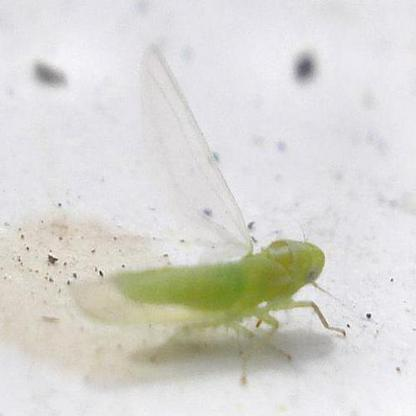green-leafhopper: (73, 238, 326, 370)
